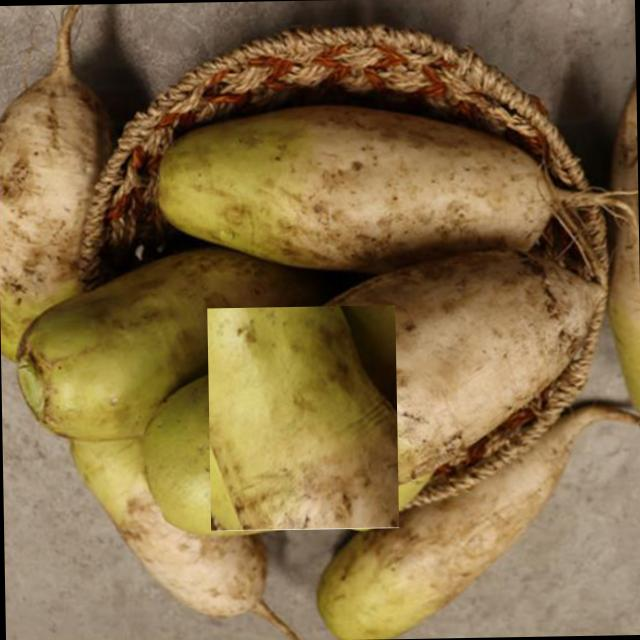radish: (198, 314, 408, 522)
